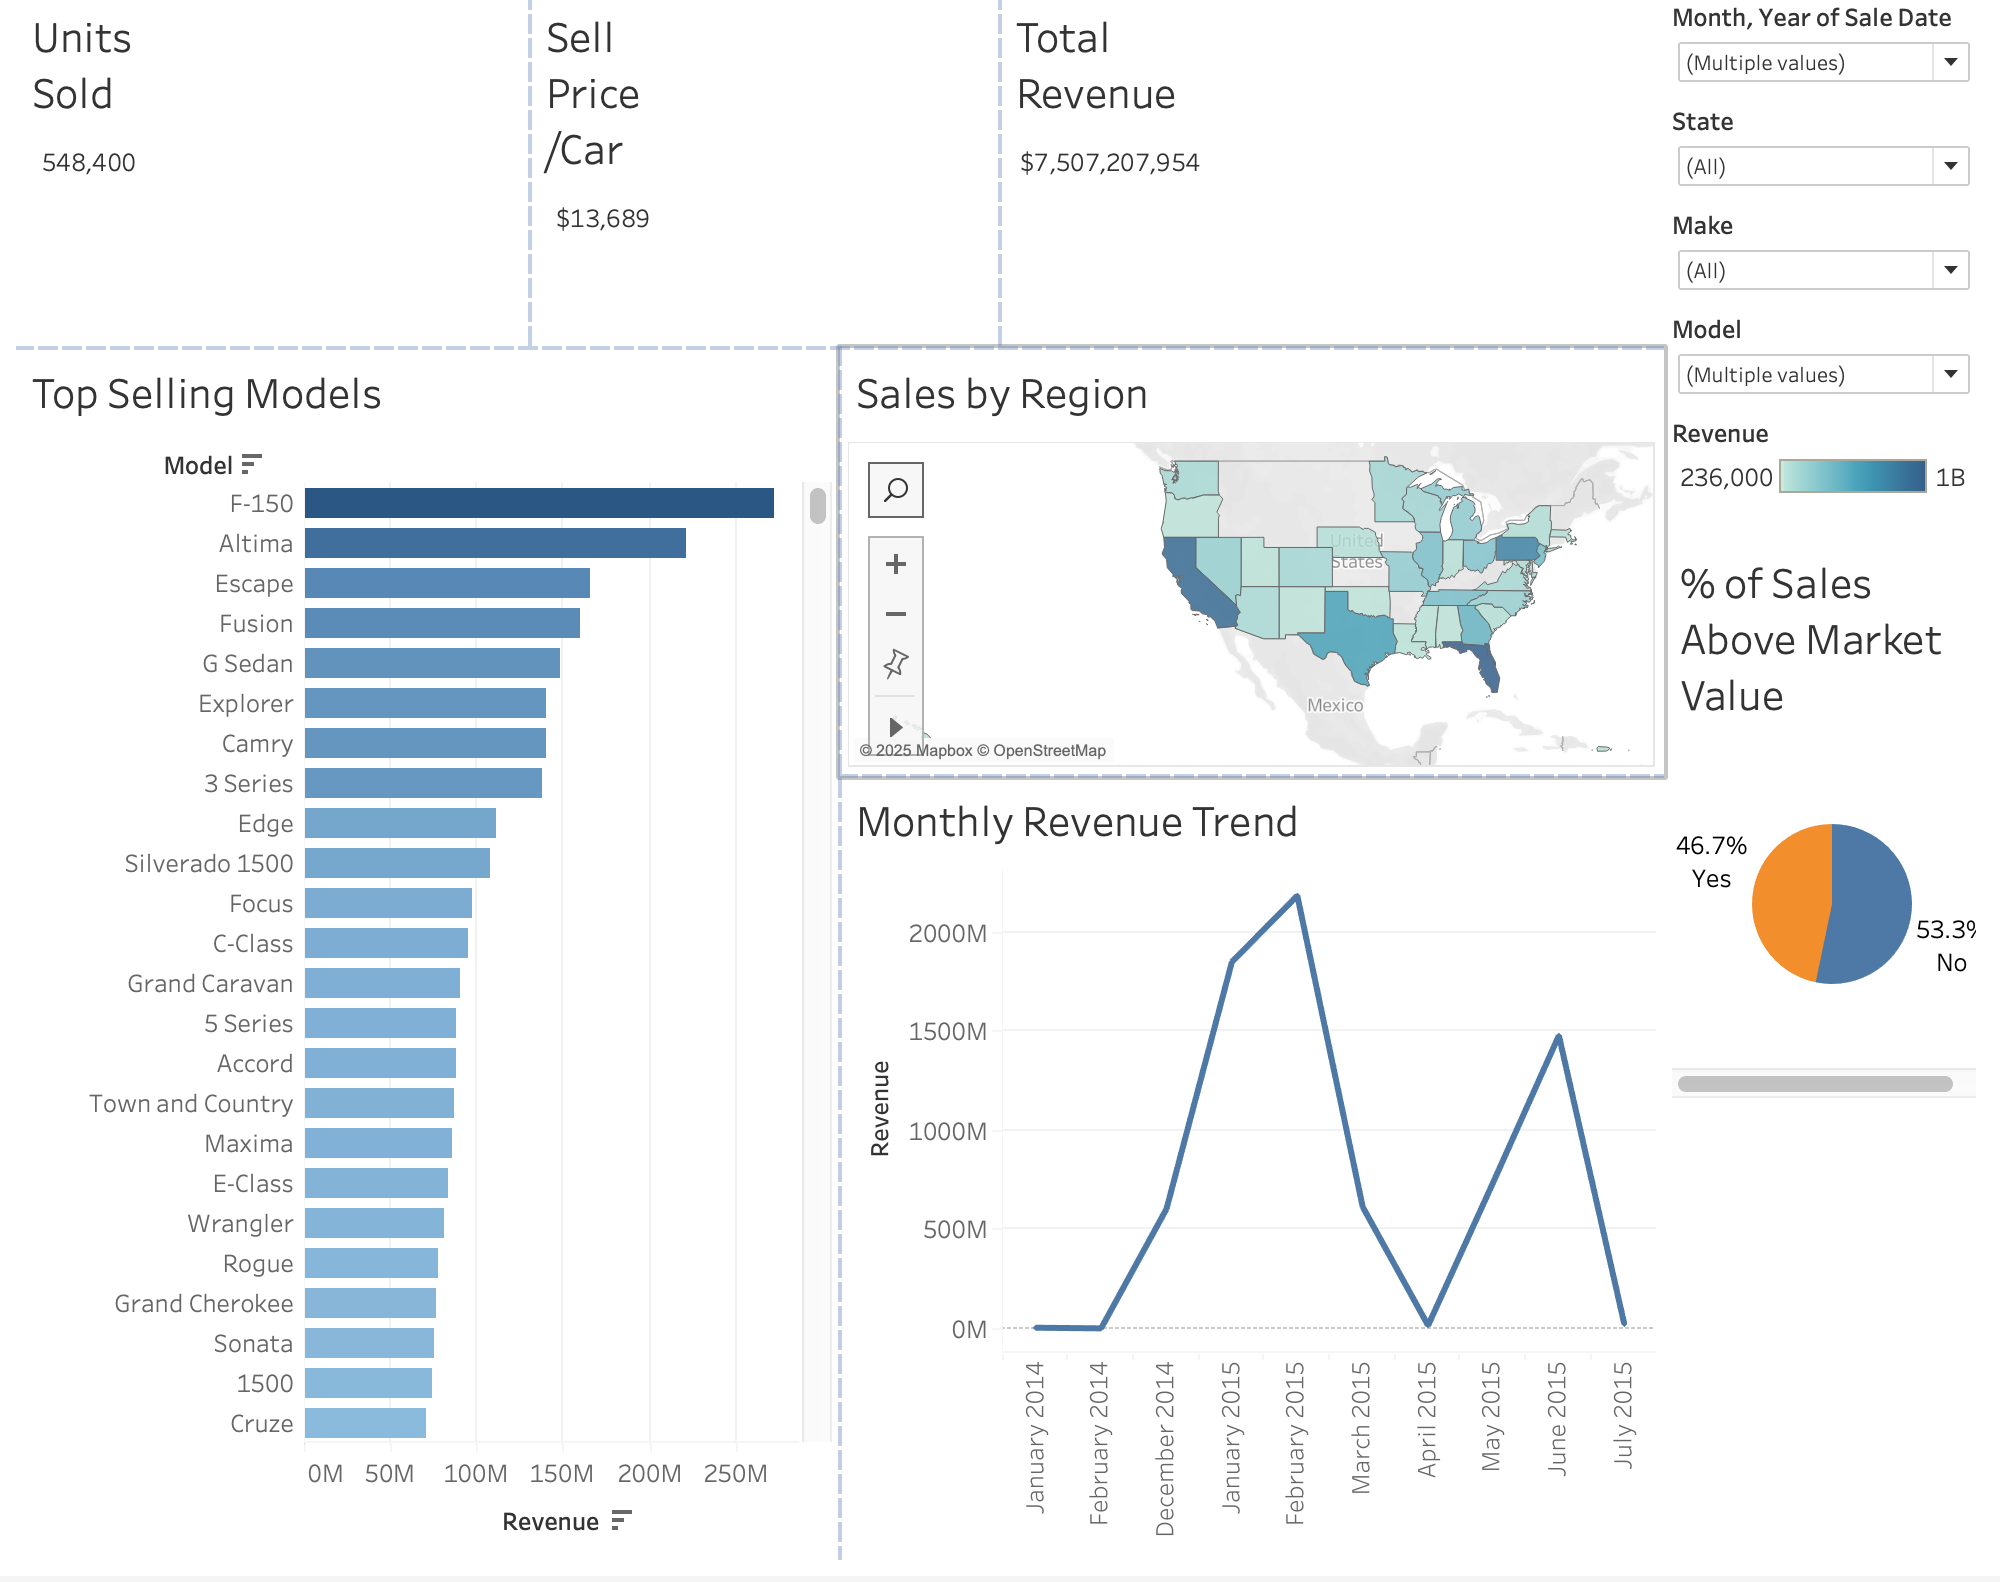

Layout of this report page (visuals, bound fields, positions):
{"tool":"tableau","page":{"name":"Vehicle Sales Performance","canvas":[1000,800],"ordinal":0},"visuals":[{"type":"worksheet","title":"Units Sold","mark":"Automatic","box":[8,8,257,178]},{"type":"worksheet","title":"Avg Selling Price","mark":"Automatic","box":[265,8,235,178]},{"type":"worksheet","title":"Total Revenue","mark":"Automatic","box":[500,8,332,178]},{"type":"filter","title":"Total Revenue","param":"[federated.1v50fxr040m2tw1h1zdjn17r0958].[my:Calculation_1341580176432779264:ok]","box":[832,8,160,52]},{"type":"filter","title":"Total Revenue","param":"[federated.1v50fxr040m2tw1h1zdjn17r0958].[none:state:nk]","box":[832,60,160,52]},{"type":"filter","title":"Total Revenue","param":"[federated.1v50fxr040m2tw1h1zdjn17r0958].[none:make:nk]","box":[832,112,160,52]},{"type":"filter","title":"Total Revenue","param":"[federated.1v50fxr040m2tw1h1zdjn17r0958].[none:model:nk]","box":[832,164,160,52]},{"type":"worksheet","title":"Top Models by Revenue","mark":"Automatic","rows":["model"],"cols":["sellingprice"],"box":[8,186,412,606]},{"type":"worksheet","title":"Sales by Region","mark":"Automatic","box":[420,186,412,214]},{"type":"legend","title":"Sales by Region","param":"[federated.1v50fxr040m2tw1h1zdjn17r0958].[sum:sellingprice:qk]","box":[832,216,160,65]},{"type":"worksheet","title":"Above MMR","mark":"Pie","box":[832,281,160,284]},{"type":"worksheet","title":"Sales Over Time","mark":"Automatic","rows":["sellingprice"],"cols":["Calculation_1341580176432779264"],"box":[420,400,412,392]}]}

Visuals, with their boxes in screenshot pixels (x1, y1, x2, y2), scaled from the page's 1000x800 canvas onto the 2000x1582 screenshot:
"Units Sold" worksheet: 16:16:530:368
"Avg Selling Price" worksheet: 530:16:1000:368
"Total Revenue" worksheet: 1000:16:1664:368
"Total Revenue" filter: 1664:16:1984:119
"Total Revenue" filter: 1664:119:1984:221
"Total Revenue" filter: 1664:221:1984:324
"Total Revenue" filter: 1664:324:1984:427
"Top Models by Revenue" worksheet: 16:368:840:1566
"Sales by Region" worksheet: 840:368:1664:791
"Sales by Region" legend: 1664:427:1984:556
"Above MMR" worksheet (Pie marks): 1664:556:1984:1117
"Sales Over Time" worksheet: 840:791:1664:1566
